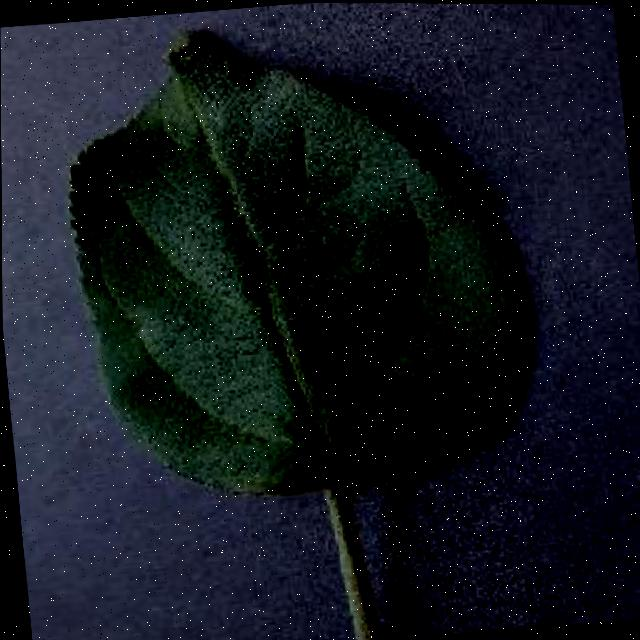healthy: (33, 0, 555, 531)
